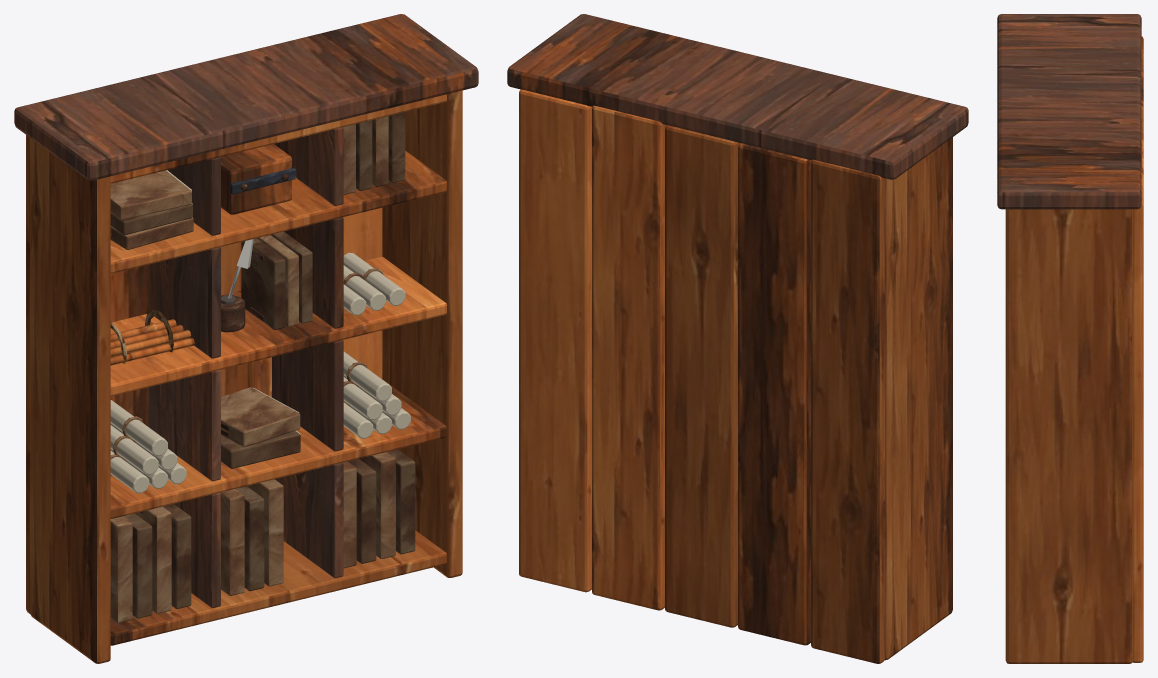
The model's file is mg_ledger_shelf.glb.
3 renders of one model, left to right at view 1: azimuth 30°, elevation 25°; view 2: azimuth 150°, elevation 25°; view 3: azimuth 270°, elevation 25°, orthographic. The views are drawn at different scales.
Parts seen in each view (by area): view 1: model; view 2: model; view 3: model.
Boxes of the visible parts, x1,y1,x2,y2 form: model: [14, 14, 478, 663]; model: [507, 14, 968, 663]; model: [997, 14, 1143, 663].
Size of the model in its own units: 1 by 1.25 by 0.345.
15 materials, 12 textured.
